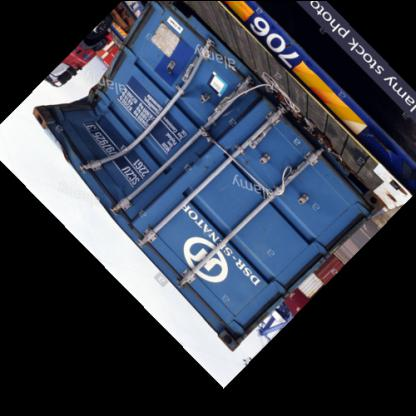Damage: (32, 6, 211, 168)
